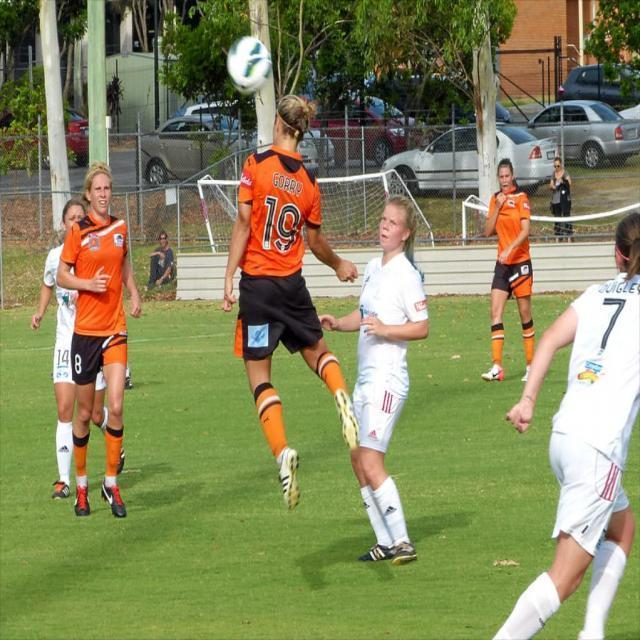ball: (228, 33, 272, 99)
